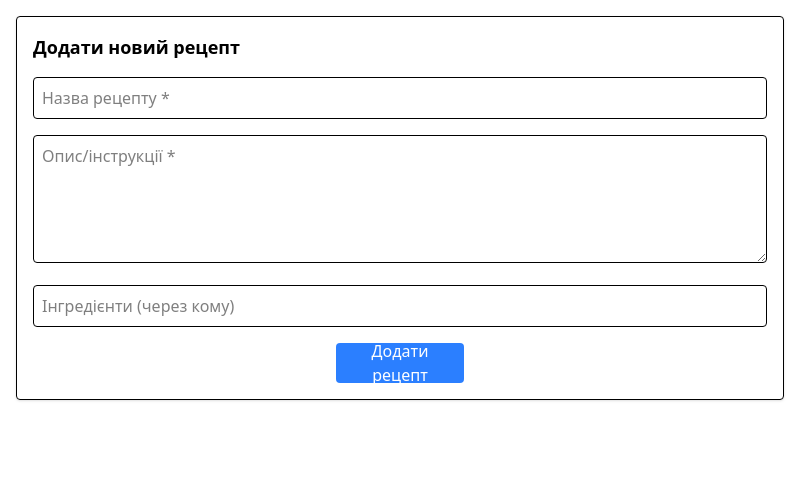
Scenario: RecipeForm › відображається повідомлення про помилку, якщо обовʼязкові поля порожні
Click the button "Додати рецепт" at (400, 363), box [336,343,464,383]
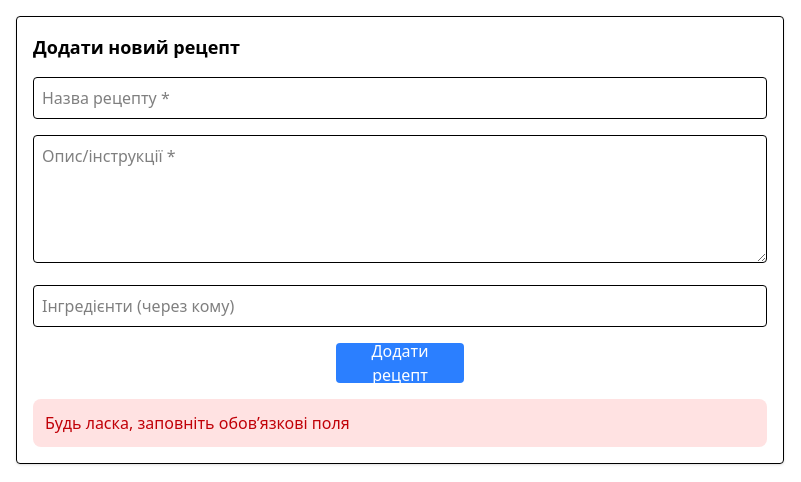
Expected: the text "Будь ласка, заповніть обовʼязкові поля" is shown, [33,399,767,447]
